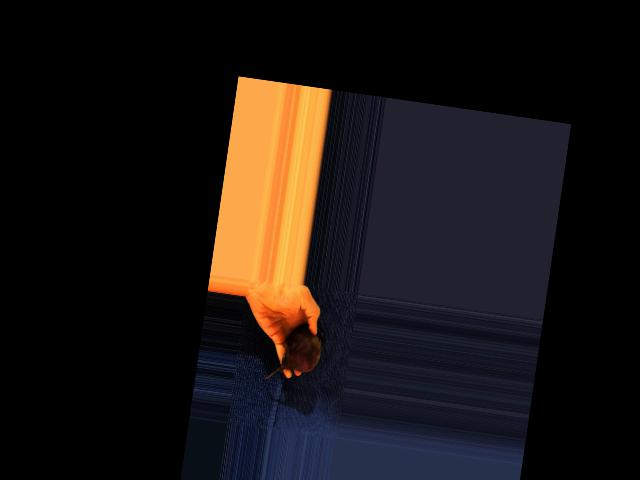beet: (263, 319, 326, 387)
